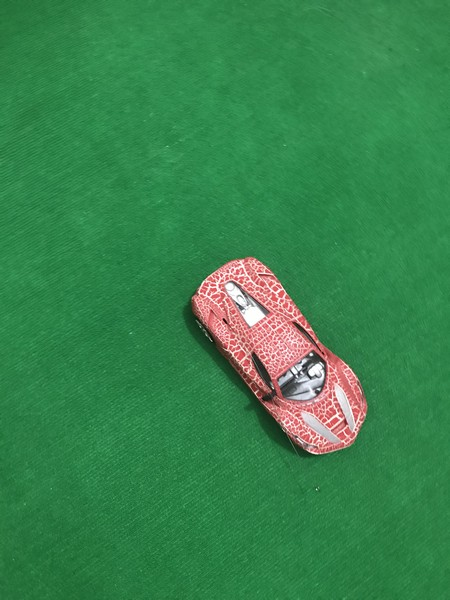RC: (184, 255, 370, 459)
